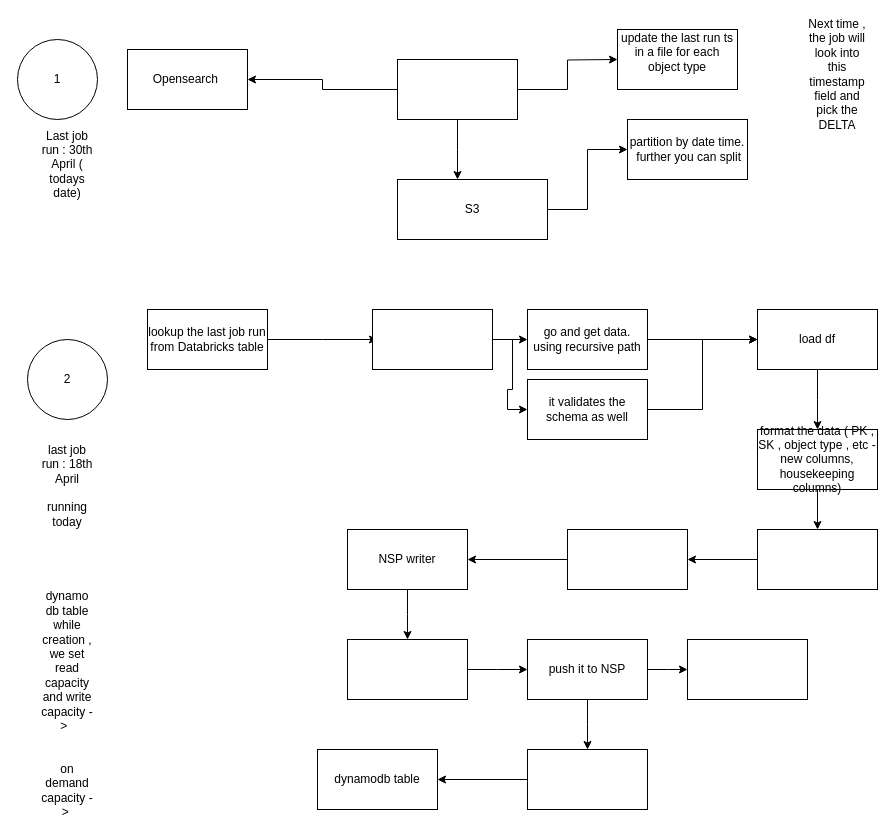
Some shapes in this 895 by 837 pixel diagram are drawn without their labels. Here are the shapes that lost their labels. From the top down, the box of each, then its label:
(396, 58, 518, 120): Job
(372, 308, 492, 370): create the different folder dates and generate s3 path
(566, 528, 688, 590): instantiate NSP object
(756, 528, 878, 590): deduplicate ( based on config ) using window functions
(346, 638, 468, 700): format the data for NSP ( mention key and value ) .key = PK
(686, 638, 808, 700): update the audit table to 30th April
(526, 748, 648, 810): dynamodb sink
